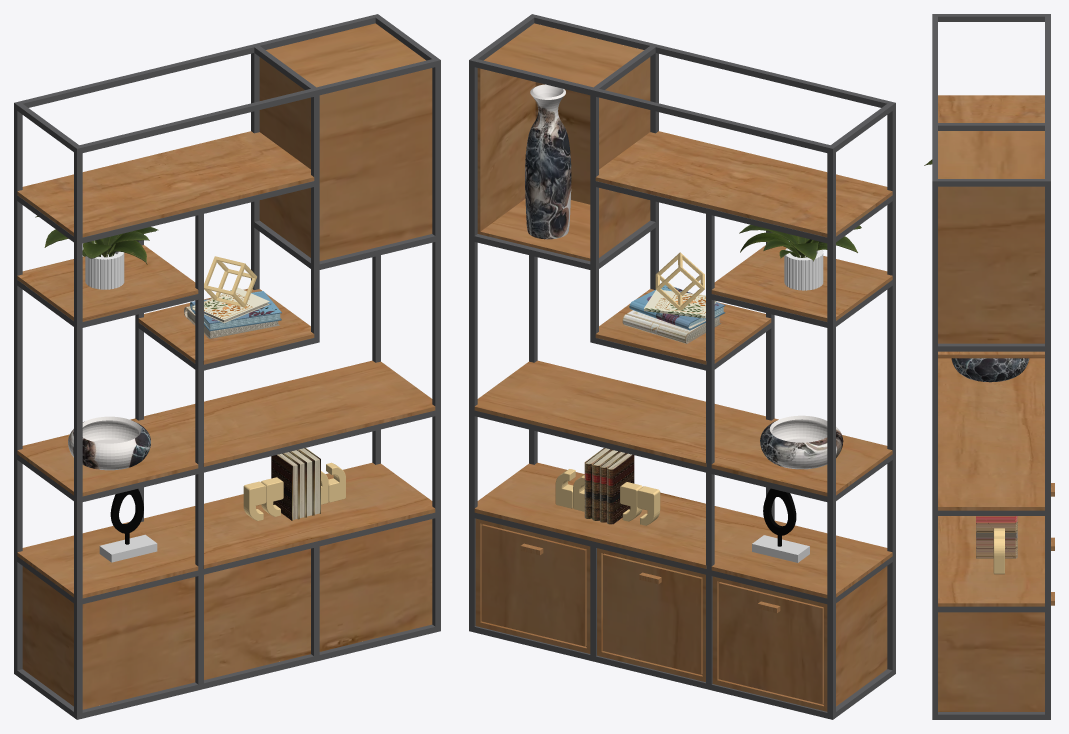
File: bookcase_open.glb
The picture shows the model from 3 angles, left to right: view 1: azimuth 30°, elevation 25°; view 2: azimuth 150°, elevation 25°; view 3: azimuth 270°, elevation 25°; orthographic projection. The views are drawn at different scales.
Visible parts, largest first — view 1: Shelf_1_Shelf_2_0, Bookshelf_frame_Shelf_frame_2_0, Quotation_mark_1_Quotation_mark_0, Vase_2_Vase_2_0, Book_pack_1_Book_pack_1_0, Plane.013_Plant_0, Book_pack_1_Book_pack_1_paper_0, Flower_pot__0, Book_2_Book_4_0, Decoration_1_Material_0, Decoration_1_Material.001_0, Book_3_Book_16_0 (+1 smaller); view 2: Shelf_1_Shelf_2_0, Bookshelf_frame_Shelf_frame_2_0, Vase_1_Vase_1_0, Quotation_mark_1_Quotation_mark_0, Vase_2_Vase_2_0, Book_pack_1_Book_pack_1_0, Plane.013_Plant_0, Flower_pot__0, Book_1_Book_3_0, Book_2_Book_4_0, Decoration_1_Material_0, Decoration_1_Material.001_0 (+1 smaller); view 3: Shelf_1_Shelf_2_0, Bookshelf_frame_Shelf_frame_2_0, Vase_2_Vase_2_0, Book_pack_1_Book_pack_1_0, Quotation_mark_1_Quotation_mark_0.
Part boxes in pixels (left/top/right/bottom): Shelf_1_Shelf_2_0: left=17, top=23, right=435, bottom=709; Bookshelf_frame_Shelf_frame_2_0: left=14, top=14, right=440, bottom=719; Quotation_mark_1_Quotation_mark_0: left=204, top=256, right=345, bottom=520; Vase_2_Vase_2_0: left=68, top=416, right=150, bottom=470; Book_pack_1_Book_pack_1_0: left=271, top=448, right=320, bottom=520; Plane.013_Plant_0: left=35, top=216, right=158, bottom=264; Book_pack_1_Book_pack_1_paper_0: left=278, top=448, right=319, bottom=519; Flower_pot__0: left=85, top=251, right=124, bottom=289; Book_2_Book_4_0: left=191, top=287, right=269, bottom=323; Decoration_1_Material_0: left=99, top=534, right=157, bottom=562; Decoration_1_Material.001_0: left=110, top=489, right=143, bottom=544; Book_3_Book_16_0: left=190, top=291, right=281, bottom=331; Shelf_1_Shelf_2_0: left=474, top=23, right=892, bottom=711; Bookshelf_frame_Shelf_frame_2_0: left=469, top=14, right=895, bottom=719; Vase_1_Vase_1_0: left=525, top=84, right=571, bottom=239; Quotation_mark_1_Quotation_mark_0: left=555, top=252, right=704, bottom=525; Vase_2_Vase_2_0: left=760, top=415, right=843, bottom=469; Book_pack_1_Book_pack_1_0: left=584, top=448, right=634, bottom=524; Plane.013_Plant_0: left=739, top=224, right=861, bottom=261; Flower_pot__0: left=784, top=248, right=823, bottom=290; Book_1_Book_3_0: left=622, top=310, right=721, bottom=343; Book_2_Book_4_0: left=644, top=290, right=716, bottom=318; Decoration_1_Material_0: left=752, top=535, right=809, bottom=562; Decoration_1_Material.001_0: left=763, top=488, right=796, bottom=546; Shelf_1_Shelf_2_0: left=938, top=95, right=1054, bottom=711; Bookshelf_frame_Shelf_frame_2_0: left=932, top=14, right=1050, bottom=719; Vase_2_Vase_2_0: left=951, top=358, right=1029, bottom=382; Book_pack_1_Book_pack_1_0: left=976, top=516, right=1017, bottom=558; Quotation_mark_1_Quotation_mark_0: left=993, top=528, right=1004, bottom=574.
Size of the model in its own units: 1.33 by 2 by 0.4407.
Materials: 16 (13 with a texture image).
